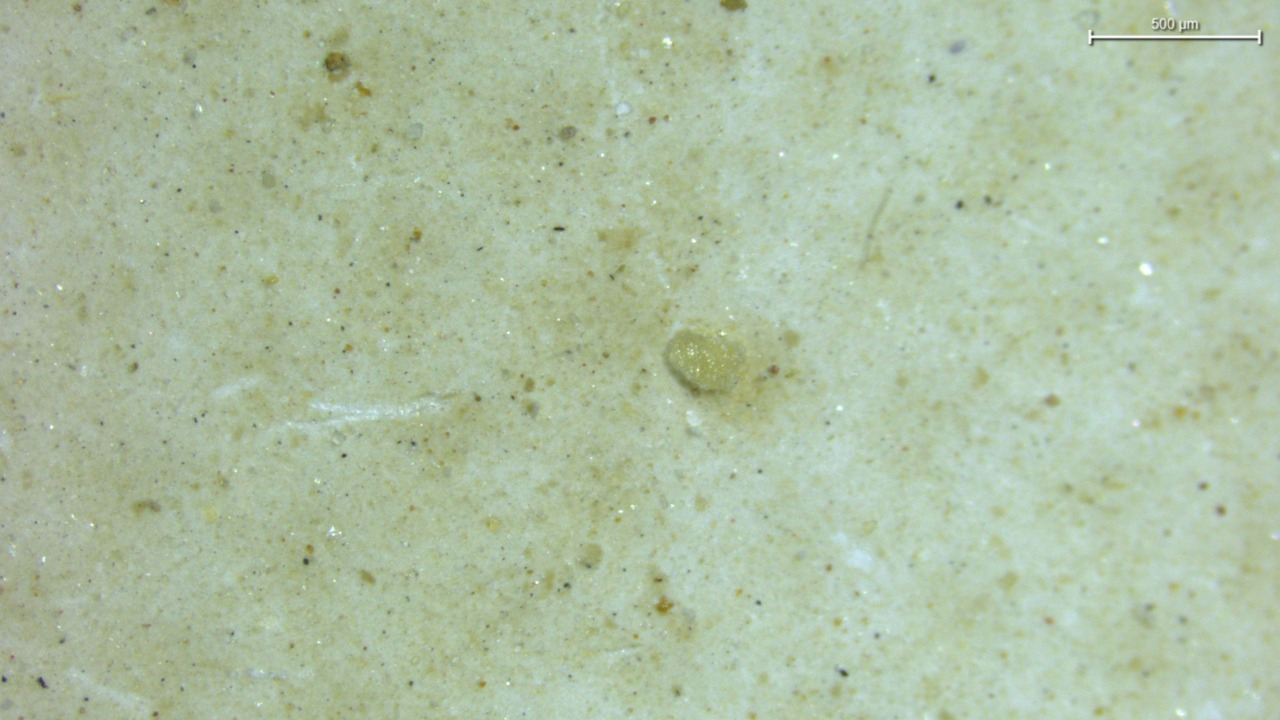microplastic_fragment: (663, 330, 745, 392)
